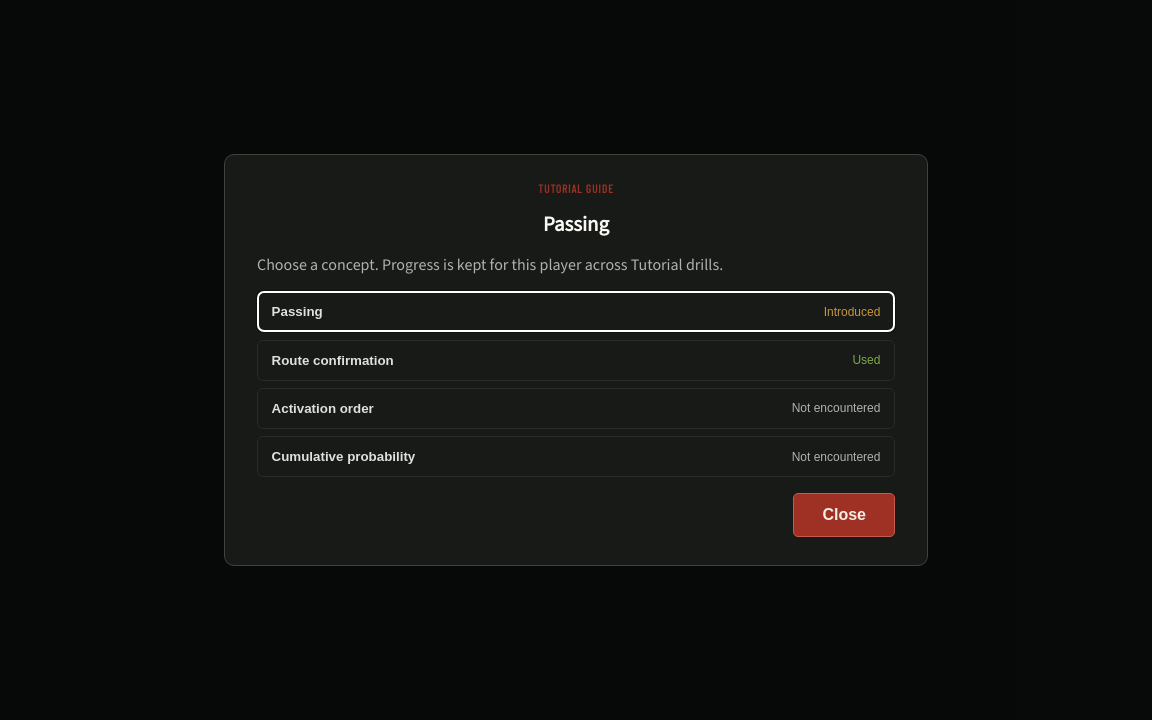
Test: TutorialConceptGuideDialog › opens as a progress list and never offers an exact hint
Expected: the text "Introduced" is shown, x1=824 y1=305 x2=880 y2=319
Expected: the text "Used" is shown, x1=852 y1=353 x2=880 y2=367
Click the button named "PassingIntroduced" at (297, 312), box x1=257 y1=292 x2=895 y2=332
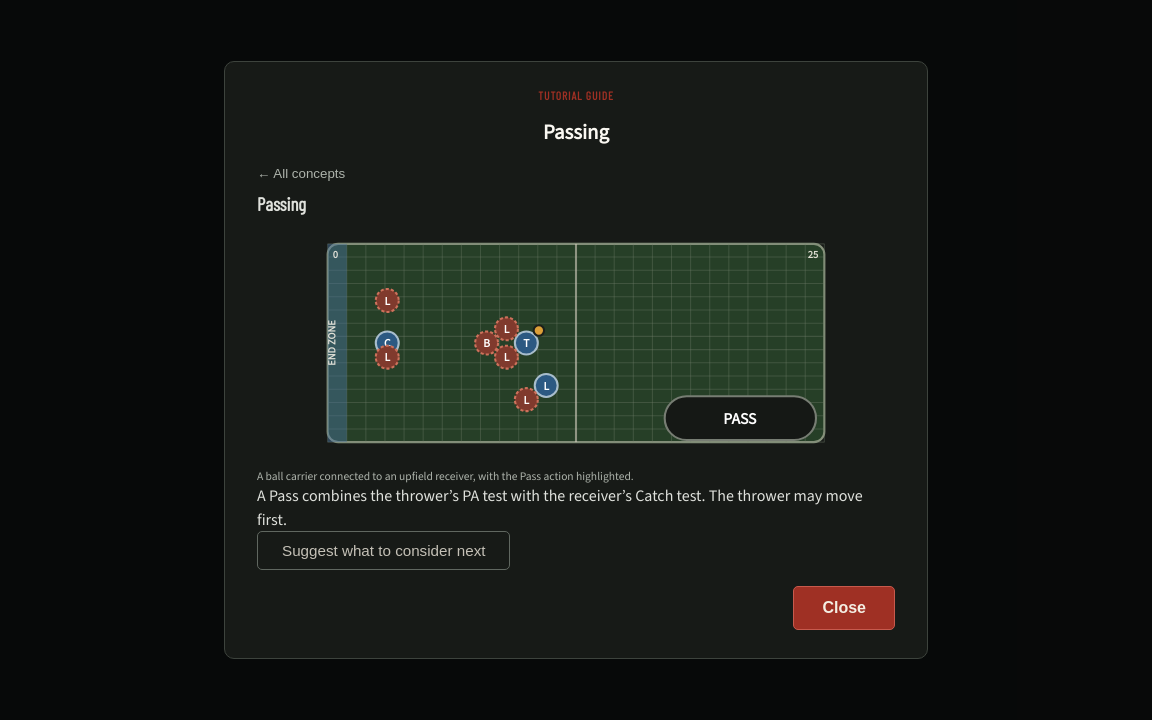
Expected: the button "Suggest what to consider next" is shown, x1=257 y1=531 x2=510 y2=570
